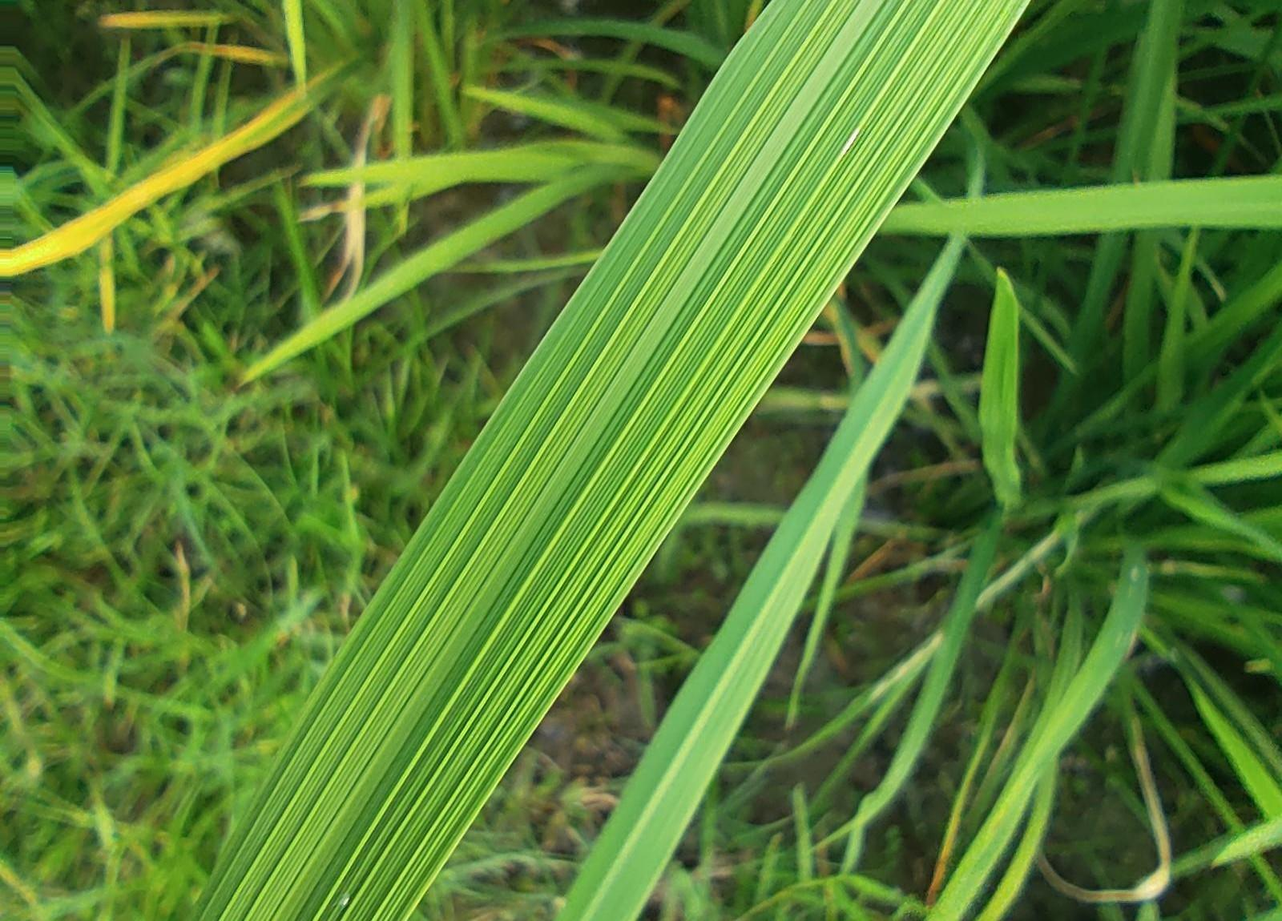Healthy: (192, 0, 1033, 920)
